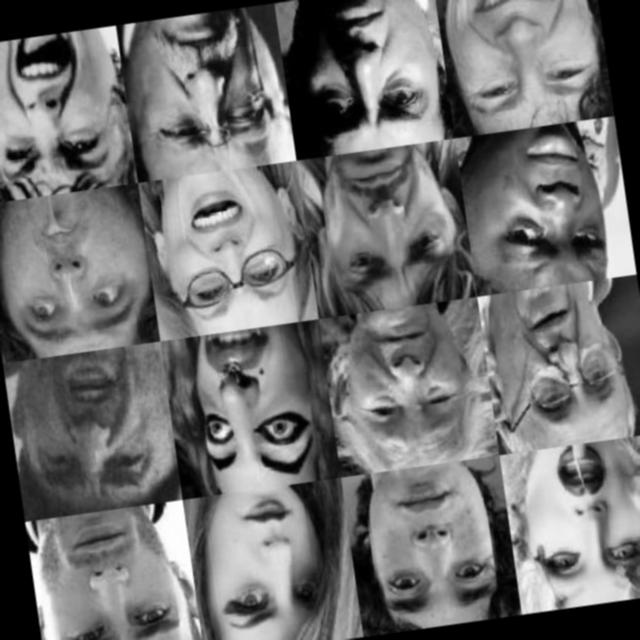angry: (12, 356, 170, 505), (293, 0, 428, 149)
fear: (179, 326, 314, 486), (0, 28, 113, 182)
happy: (154, 170, 300, 314), (452, 0, 592, 114)
neutral: (123, 12, 278, 164), (202, 492, 354, 636), (354, 477, 497, 626), (25, 503, 179, 640), (0, 196, 135, 345), (496, 288, 628, 426), (525, 450, 640, 592)
sad: (312, 146, 470, 298), (472, 124, 619, 281), (336, 296, 471, 446)
